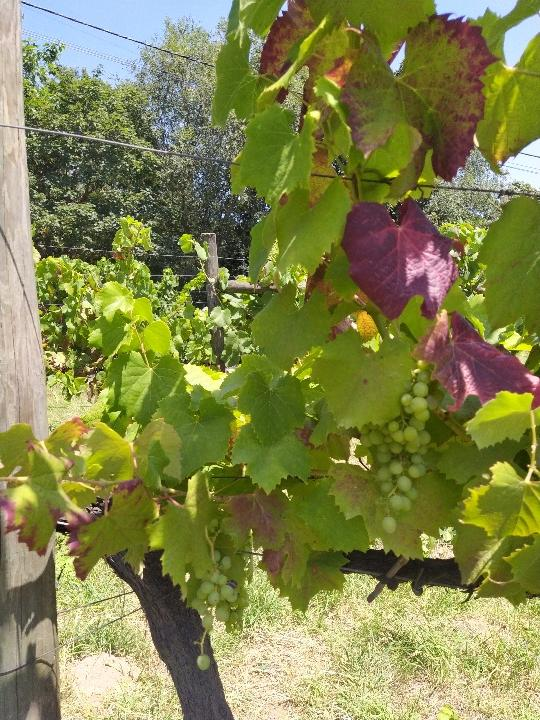grape: (353, 360, 445, 545)
